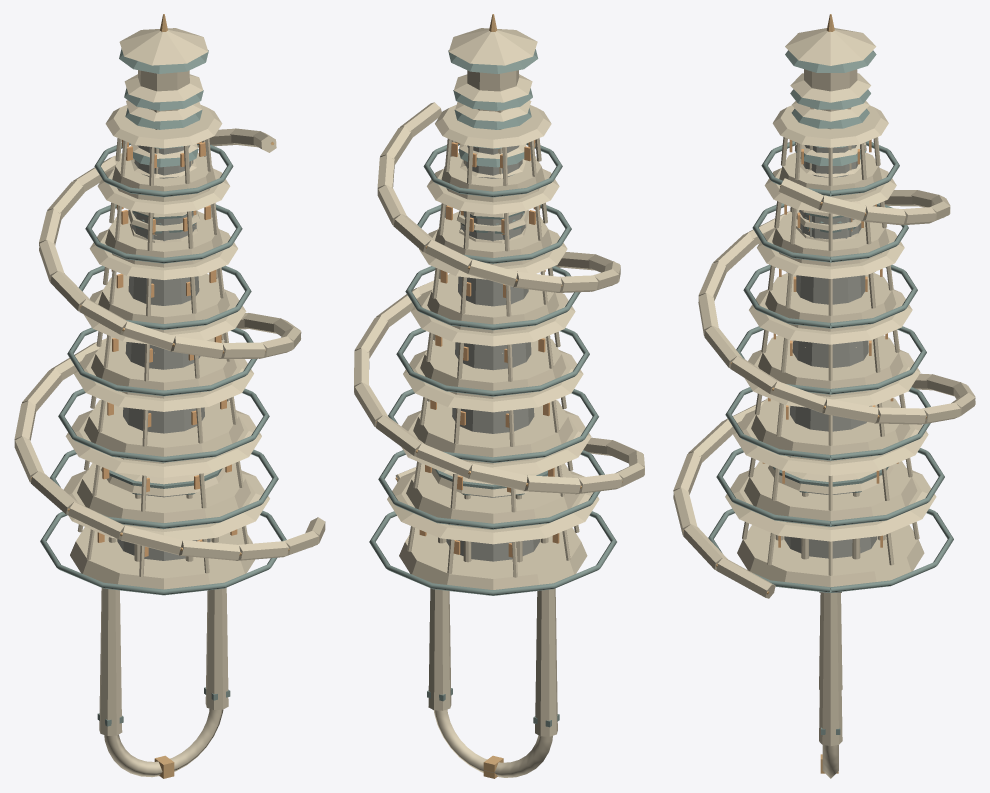
Rendered from world14-ruins-architecture.glb.
3 views of the same model, side by side, from view 1: azimuth 30°, elevation 25°; view 2: azimuth 150°, elevation 25°; view 3: azimuth 270°, elevation 25° (orthographic).
Visible parts, largest first — view 1: Spiral_00_Warm hand-cut limestone, Spiral_00_Aged deep bronze, Arch_00_Warm hand-cut limestone, central-core, Tower_Overhead_05_Warm hand-cut limestone, Spiral_00_Amber window, Pavilion_00_Warm hand-cut limestone, Tower_Lower_06_Warm hand-cut limestone, Tower_Overhead_07_Warm hand-cut limestone, Tower_Lower_06_Aged deep bronze, Tower_Overhead_05_Aged deep bronze, Tower_Overhead_07_Aged deep bronze (+1 smaller); view 2: Spiral_00_Warm hand-cut limestone, Spiral_00_Aged deep bronze, Arch_00_Warm hand-cut limestone, central-core, Tower_Overhead_05_Warm hand-cut limestone, Spiral_00_Amber window, Tower_Lower_06_Warm hand-cut limestone, Pavilion_00_Warm hand-cut limestone, Tower_Overhead_07_Warm hand-cut limestone, Tower_Lower_06_Aged deep bronze, Tower_Overhead_05_Aged deep bronze, Tower_Overhead_07_Aged deep bronze; view 3: Spiral_00_Warm hand-cut limestone, Spiral_00_Aged deep bronze, central-core, Arch_00_Warm hand-cut limestone, Tower_Overhead_05_Warm hand-cut limestone, Pavilion_00_Warm hand-cut limestone, Tower_Overhead_07_Warm hand-cut limestone, Tower_Lower_06_Warm hand-cut limestone, Spiral_00_Amber window, Tower_Overhead_05_Aged deep bronze, Tower_Lower_06_Aged deep bronze, Tower_Overhead_07_Aged deep bronze (+1 smaller).
Part boxes in pixels (bbox=[...]): Spiral_00_Warm hand-cut limestone: bbox=[14, 105, 325, 589]; Spiral_00_Aged deep bronze: bbox=[40, 143, 286, 595]; Arch_00_Warm hand-cut limestone: bbox=[99, 587, 228, 777]; central-core: bbox=[117, 145, 210, 560]; Tower_Overhead_05_Warm hand-cut limestone: bbox=[119, 28, 208, 173]; Spiral_00_Amber window: bbox=[97, 140, 237, 556]; Pavilion_00_Warm hand-cut limestone: bbox=[101, 467, 225, 561]; Tower_Lower_06_Warm hand-cut limestone: bbox=[124, 74, 202, 217]; Tower_Overhead_07_Warm hand-cut limestone: bbox=[126, 100, 201, 231]; Tower_Lower_06_Aged deep bronze: bbox=[124, 88, 203, 219]; Tower_Overhead_05_Aged deep bronze: bbox=[119, 48, 208, 73]; Tower_Overhead_07_Aged deep bronze: bbox=[125, 108, 202, 233]; Spiral_00_Warm hand-cut limestone: bbox=[354, 102, 644, 589]; Spiral_00_Aged deep bronze: bbox=[369, 142, 616, 595]; Arch_00_Warm hand-cut limestone: bbox=[428, 588, 557, 777]; central-core: bbox=[446, 145, 539, 561]; Tower_Overhead_05_Warm hand-cut limestone: bbox=[448, 28, 537, 178]; Spiral_00_Amber window: bbox=[419, 140, 559, 557]; Tower_Lower_06_Warm hand-cut limestone: bbox=[454, 74, 532, 217]; Pavilion_00_Warm hand-cut limestone: bbox=[431, 468, 556, 562]; Tower_Overhead_07_Warm hand-cut limestone: bbox=[455, 100, 531, 231]; Tower_Lower_06_Aged deep bronze: bbox=[453, 88, 532, 219]; Tower_Overhead_05_Aged deep bronze: bbox=[448, 49, 538, 73]; Tower_Overhead_07_Aged deep bronze: bbox=[454, 108, 531, 233]; Spiral_00_Warm hand-cut limestone: bbox=[673, 105, 975, 598]; Spiral_00_Aged deep bronze: bbox=[708, 141, 953, 592]; central-core: bbox=[784, 145, 877, 558]; Arch_00_Warm hand-cut limestone: bbox=[819, 593, 842, 778]; Tower_Overhead_05_Warm hand-cut limestone: bbox=[785, 28, 876, 170]; Pavilion_00_Warm hand-cut limestone: bbox=[768, 465, 893, 559]; Tower_Overhead_07_Warm hand-cut limestone: bbox=[792, 101, 869, 230]; Tower_Lower_06_Warm hand-cut limestone: bbox=[790, 73, 870, 216]; Spiral_00_Amber window: bbox=[762, 139, 898, 547]; Tower_Overhead_05_Aged deep bronze: bbox=[785, 50, 876, 72]; Tower_Lower_06_Aged deep bronze: bbox=[790, 89, 870, 218]; Tower_Overhead_07_Aged deep bronze: bbox=[791, 108, 869, 232].
Size of the model in its own units: 13.98 by 38.96 by 14.08.
